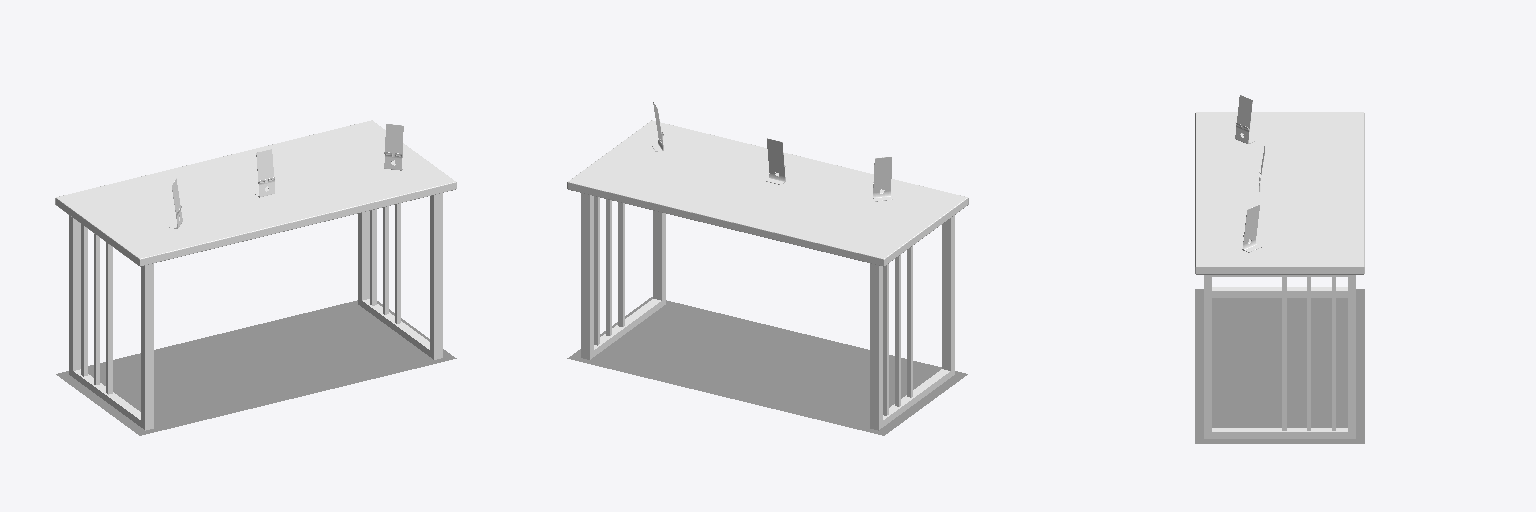
Rendered from magasin.obj.
3 views of the same model, side by side, from view 1: azimuth 30°, elevation 25°; view 2: azimuth 150°, elevation 25°; view 3: azimuth 270°, elevation 25° (orthographic).
Parts seen in each view (by area): view 1: 2, ground_1, 5, 4; view 2: 2, ground_1, 3, 4; view 3: 2, ground_1, 3, 5.
Boxes of the visible parts, x1,y1,x2,y2 form: 2: [55, 120, 456, 430]; ground_1: [56, 300, 456, 435]; 5: [384, 124, 403, 170]; 4: [255, 149, 274, 197]; 2: [567, 120, 968, 430]; ground_1: [567, 297, 967, 435]; 3: [873, 156, 892, 201]; 4: [766, 138, 785, 184]; 2: [1195, 112, 1364, 438]; ground_1: [1195, 289, 1364, 443]; 3: [1235, 95, 1254, 143]; 5: [1242, 204, 1261, 252].
Size of the model in its own units: 200 by 133 by 92.48.